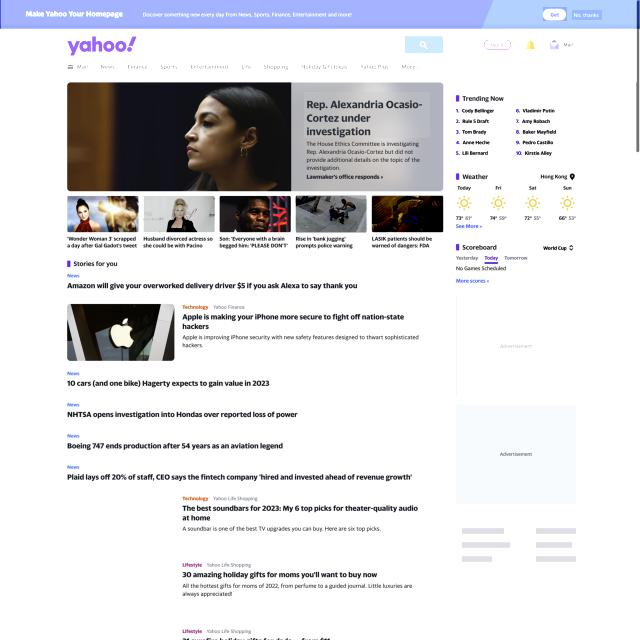CheckBox: (405, 35, 446, 54), (482, 37, 512, 52), (546, 39, 577, 53), (543, 7, 567, 21), (572, 10, 602, 20)
CheckedTextView: (154, 34, 446, 56)
ImageView: (456, 403, 577, 505), (457, 296, 576, 396)
bag: (1, 0, 637, 82)
card: (66, 82, 443, 191)
content: (524, 38, 538, 53), (546, 39, 561, 51)
copy: (296, 195, 366, 233), (372, 195, 443, 232), (68, 196, 138, 232), (144, 196, 214, 232), (220, 196, 290, 232)
date picker: (66, 32, 140, 58)
decoration: (452, 108, 564, 164), (64, 62, 424, 72)
image: (304, 92, 430, 138)
